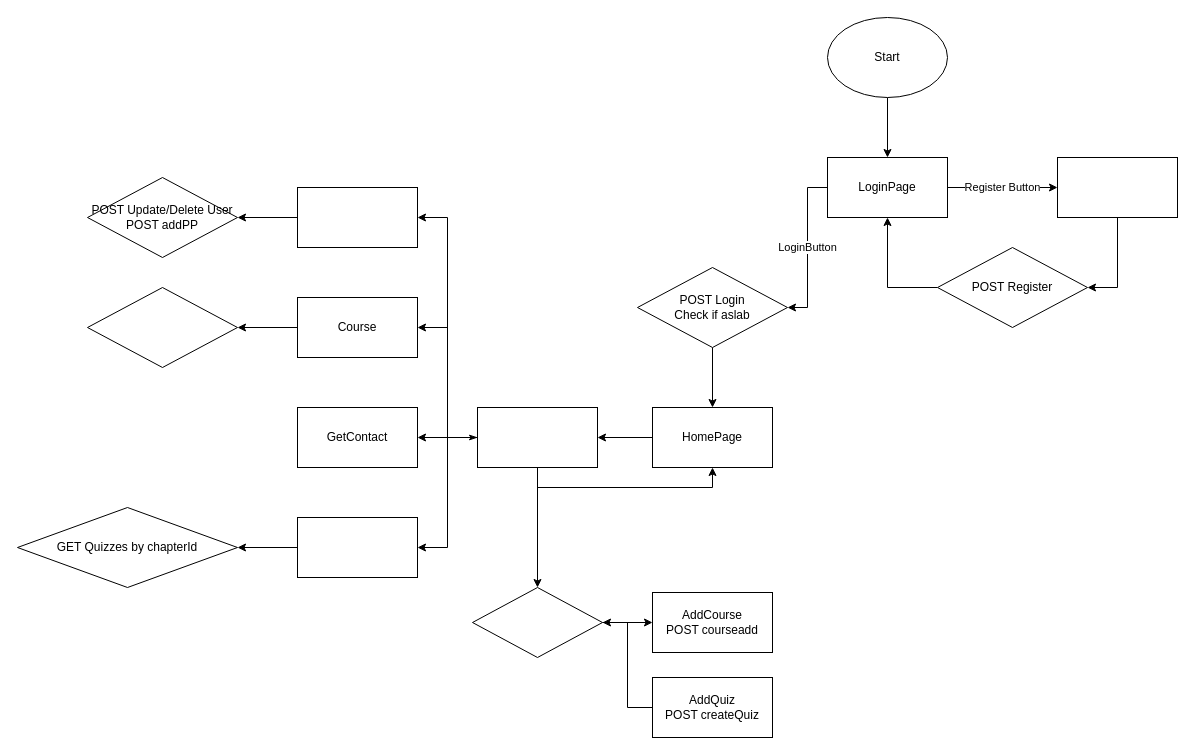
Some shapes in this 1195 by 755 pixel diagram are drawn without their labels. Here are the shapes that lost their labels. From the top down, the centre of each, then its label:
(x=1117, y=187): RegisterPage
(x=357, y=217): AccountSetting
(x=162, y=327): GET Course List GET Course by Id
(x=537, y=437): Navbar GET PP from Cloudinary
(x=357, y=547): Quizzes
(x=537, y=622): If Aslab
